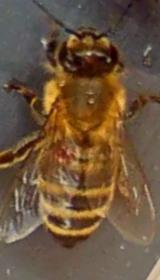varroa_mite: (41, 134, 74, 171)
